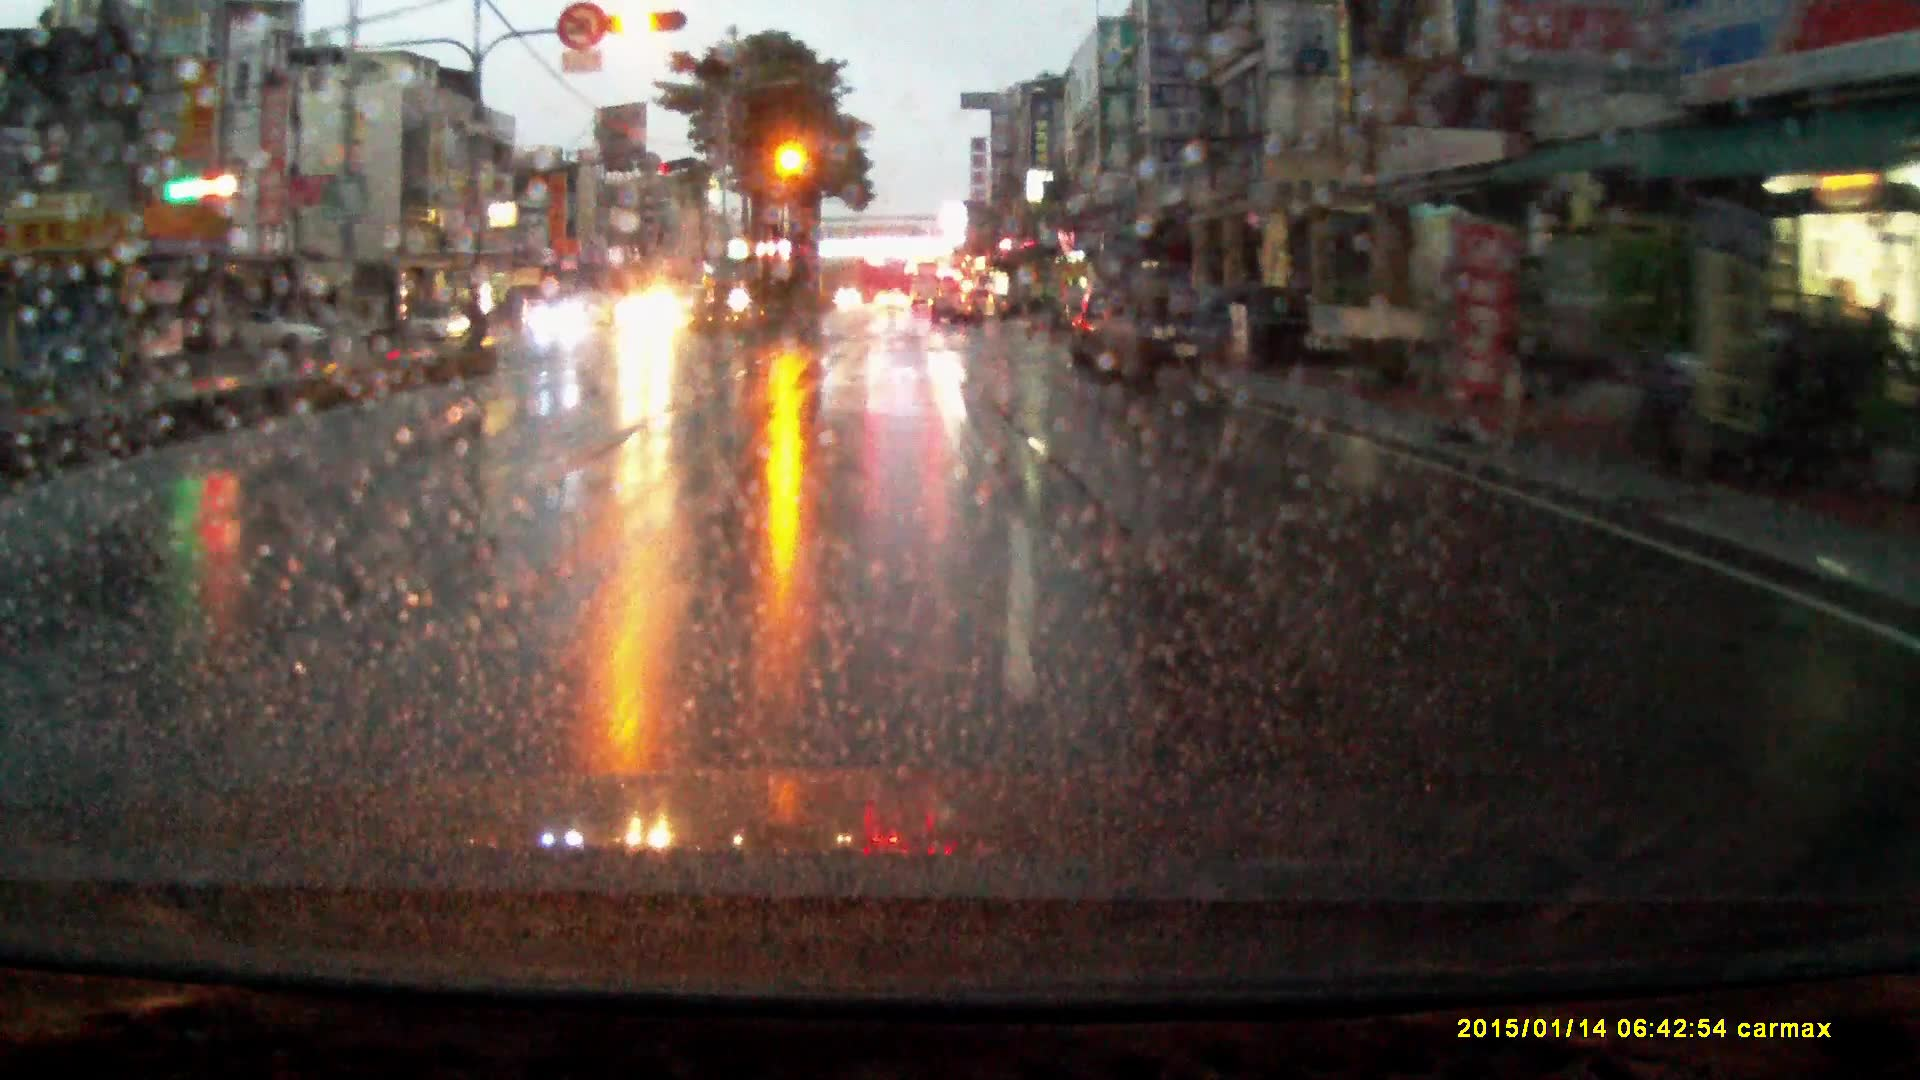vehicle: (1098, 269, 1240, 394), (1311, 309, 1482, 375), (207, 313, 322, 357), (611, 291, 686, 345), (1072, 280, 1110, 375), (301, 313, 377, 353), (932, 285, 997, 330), (409, 303, 471, 345), (534, 302, 593, 344), (911, 265, 945, 309), (874, 294, 913, 318)
